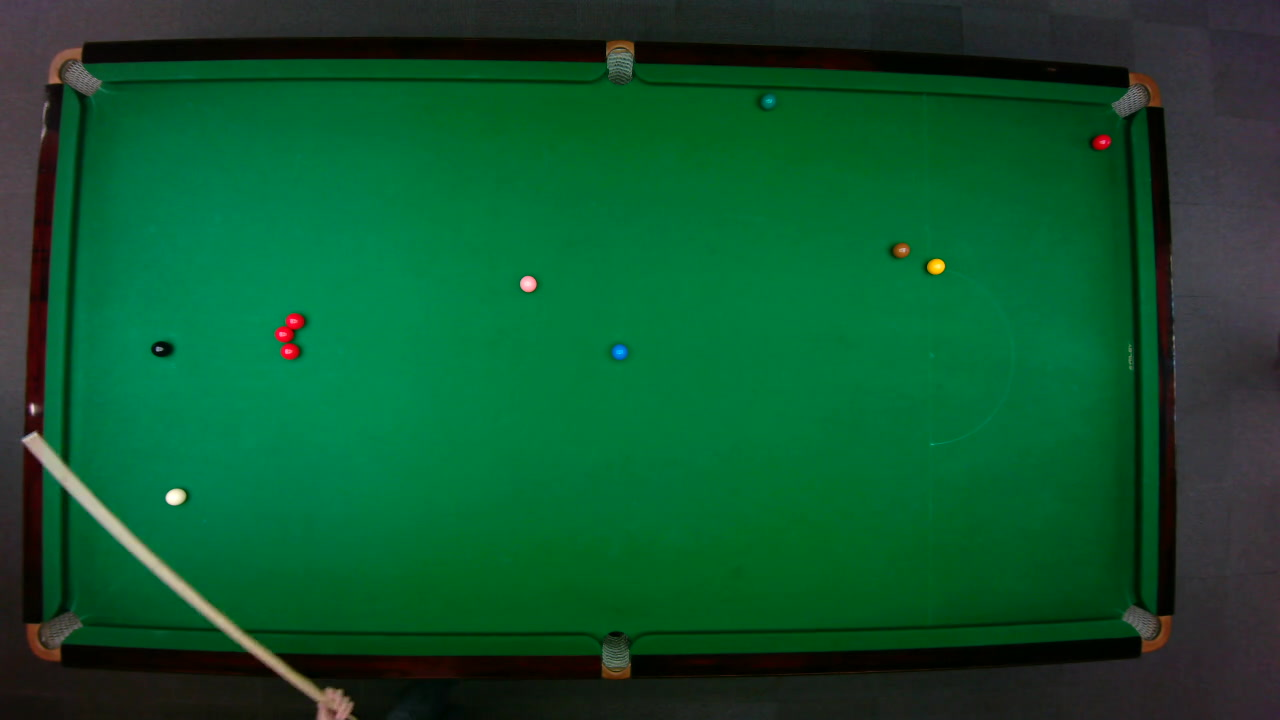bag: (25, 609, 83, 661), (45, 46, 102, 96), (1119, 603, 1171, 652), (1108, 71, 1161, 118), (600, 629, 629, 680), (605, 38, 633, 85)
black: (149, 339, 172, 357)
blue: (610, 343, 628, 360)
brown: (890, 241, 911, 258)
cue: (13, 432, 331, 700)
green: (759, 93, 776, 110)
pink: (518, 274, 537, 292)
red: (284, 311, 305, 330), (1090, 132, 1112, 150), (279, 342, 300, 360), (273, 324, 294, 342)
white: (163, 486, 187, 505)
yellow: (925, 256, 946, 275)
zone: (927, 265, 1013, 446)
